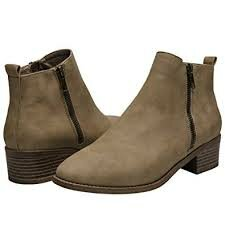Ankle boots: (51, 49, 225, 197), (2, 46, 110, 185)
